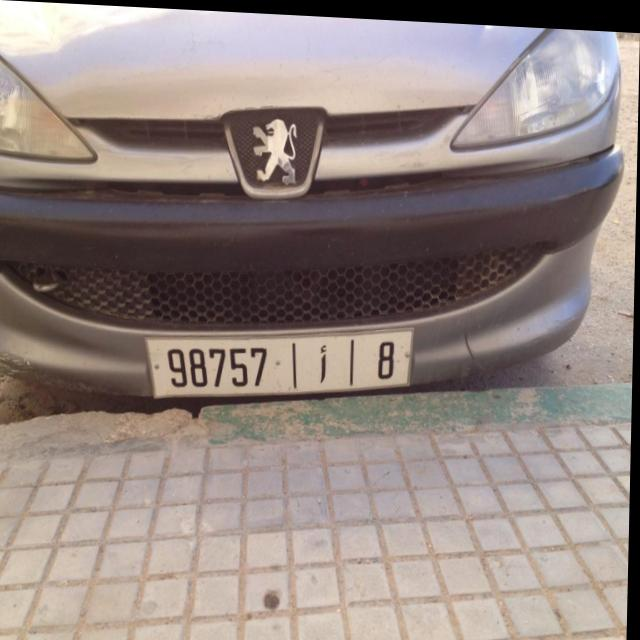License-Plate: (148, 323, 415, 395)
